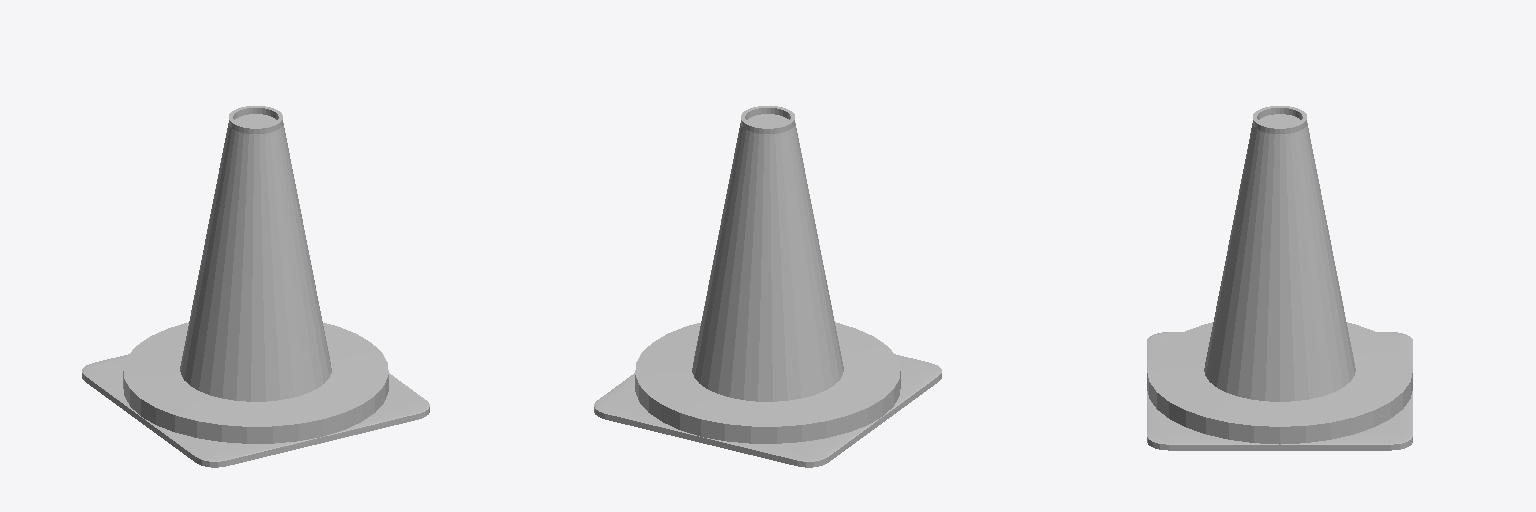
File: old blue.obj
3 views of the same model, side by side, from view 1: azimuth 30°, elevation 25°; view 2: azimuth 150°, elevation 25°; view 3: azimuth 270°, elevation 25° (orthographic).
Visible parts, largest first — view 1: Cylinder.001; view 2: Cylinder.001; view 3: Cylinder.001.
Part boxes in pixels (left/top/right/bottom): Cylinder.001: left=82, top=106, right=429, bottom=467; Cylinder.001: left=594, top=106, right=941, bottom=467; Cylinder.001: left=1147, top=106, right=1412, bottom=450.
Size of the model in its own units: 0.2285 by 0.2622 by 0.2285.